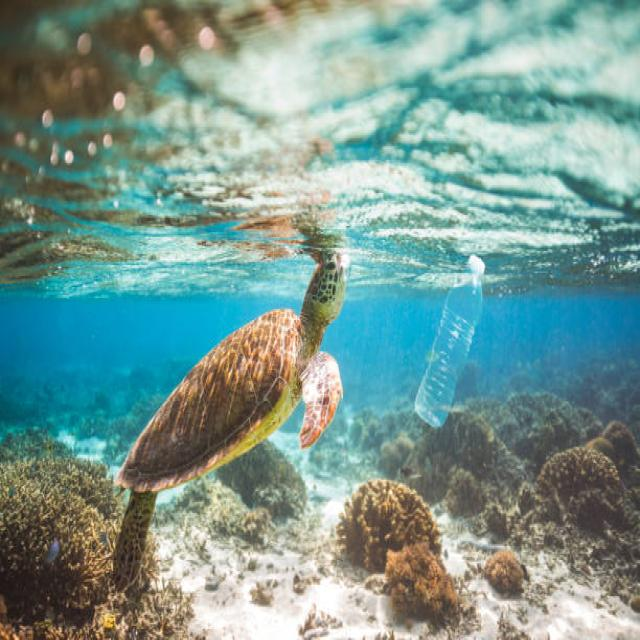plastic: (411, 249, 500, 441)
